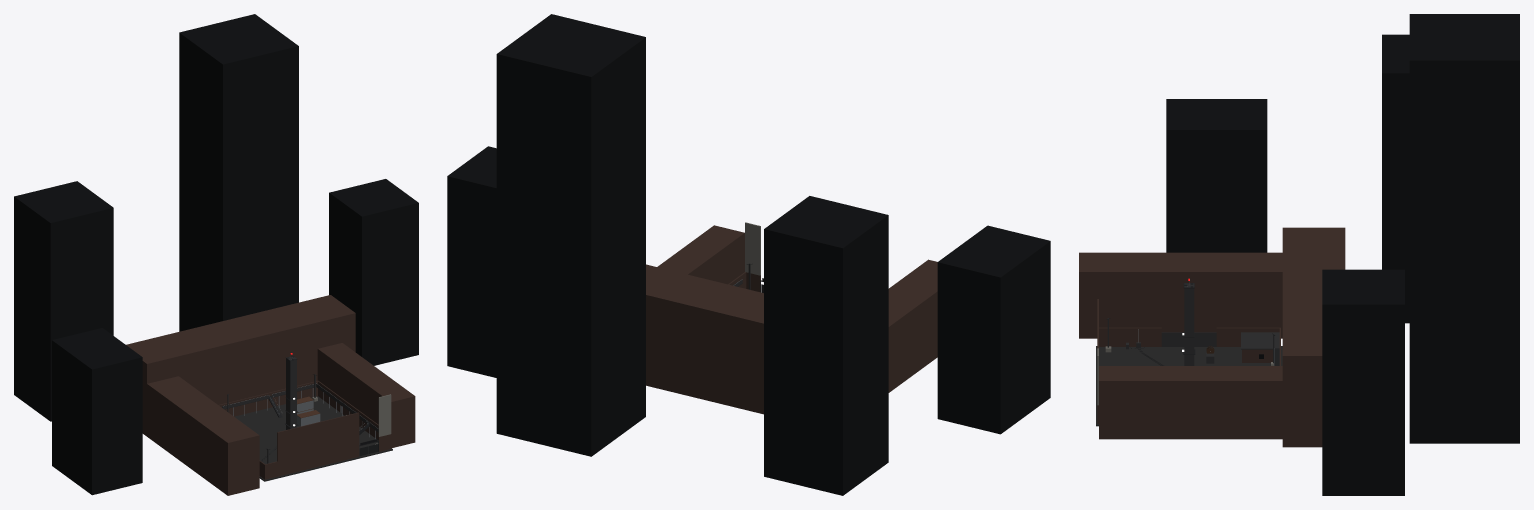
The picture shows the model from 3 angles, left to right: view 1: azimuth 30°, elevation 25°; view 2: azimuth 150°, elevation 25°; view 3: azimuth 270°, elevation 25°; orthographic projection. The views are drawn at different scales.
Visible parts, largest first — view 1: lt-yard.sf_skyline.-1_-1, lt-yard.sf_brick_dark.-1_-1, COL_yard.ground, COL_yard.wall-s-w, COL_yard.mast-legs, lt-yard.sf_concrete.-1_-1; view 2: lt-yard.sf_skyline.-1_-1, lt-yard.sf_brick_dark.-1_-1, lt-yard.sf_concrete.-1_-1; view 3: lt-yard.sf_skyline.-1_-1, lt-yard.sf_brick_dark.-1_-1, COL_yard.ground, COL_yard.wall-w-s, COL_yard.mast-legs, COL_yard.fence, COL_yard.hut-roof, COL_yard.wall-w-n.
Part boxes in pixels (x1,y1,x2,y2): lt-yard.sf_skyline.-1_-1: (14,14,418,495); lt-yard.sf_brick_dark.-1_-1: (126,295,415,495); COL_yard.ground: (234,396,392,480); COL_yard.wall-s-w: (265,442,359,479); COL_yard.mast-legs: (286,356,296,429); lt-yard.sf_concrete.-1_-1: (312,394,391,444); lt-yard.sf_skyline.-1_-1: (447,14,1050,495); lt-yard.sf_brick_dark.-1_-1: (646,225,937,414); lt-yard.sf_concrete.-1_-1: (745,222,760,275); lt-yard.sf_skyline.-1_-1: (1166,14,1519,495); lt-yard.sf_brick_dark.-1_-1: (1079,227,1345,447); COL_yard.ground: (1096,346,1282,426); COL_yard.wall-w-s: (1099,328,1161,346); COL_yard.mast-legs: (1184,283,1194,365); COL_yard.fence: (1161,332,1216,346); COL_yard.hut-roof: (1241,332,1279,349); COL_yard.wall-w-n: (1216,328,1279,346).
Bounding box in the file's own units: 123 × 92.4 × 96.
